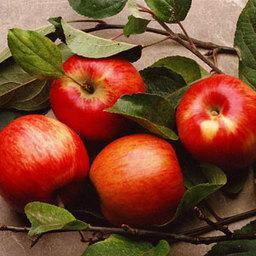apple: (90, 133, 189, 225), (1, 113, 88, 212), (49, 56, 146, 142), (175, 74, 256, 172)
